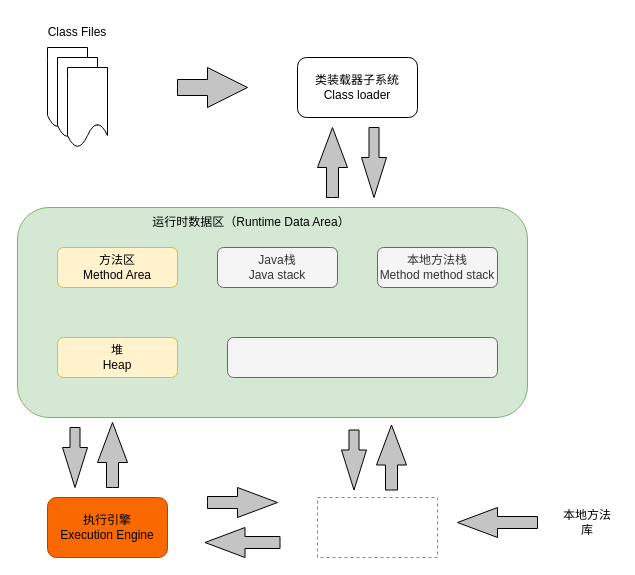
Some shapes in this 635 by 575 pixel diagram are drawn without their labels. The box of each missing label's shape, as (x1, y1, x2, y2) in pixels:
本地方法接口 native interface: (316, 496, 438, 558)
程序计数器 Program Counter Register: (226, 336, 498, 378)
